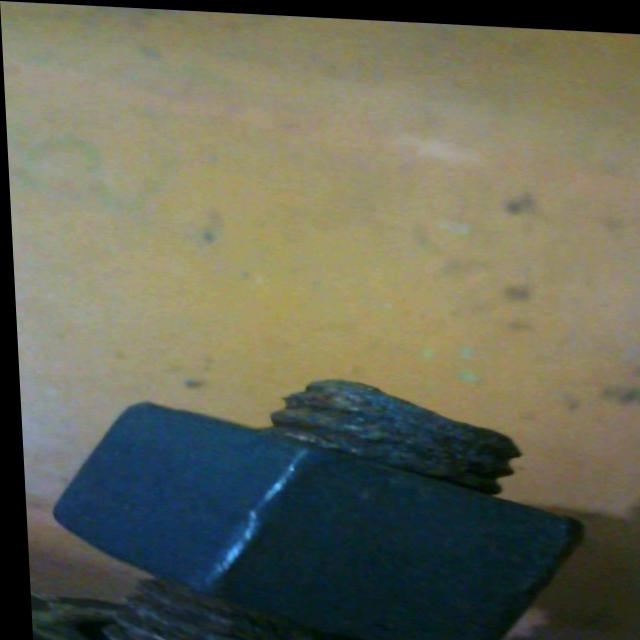Loose bolt: (35, 362, 590, 640)
Rusty bolt: (253, 368, 527, 487)
